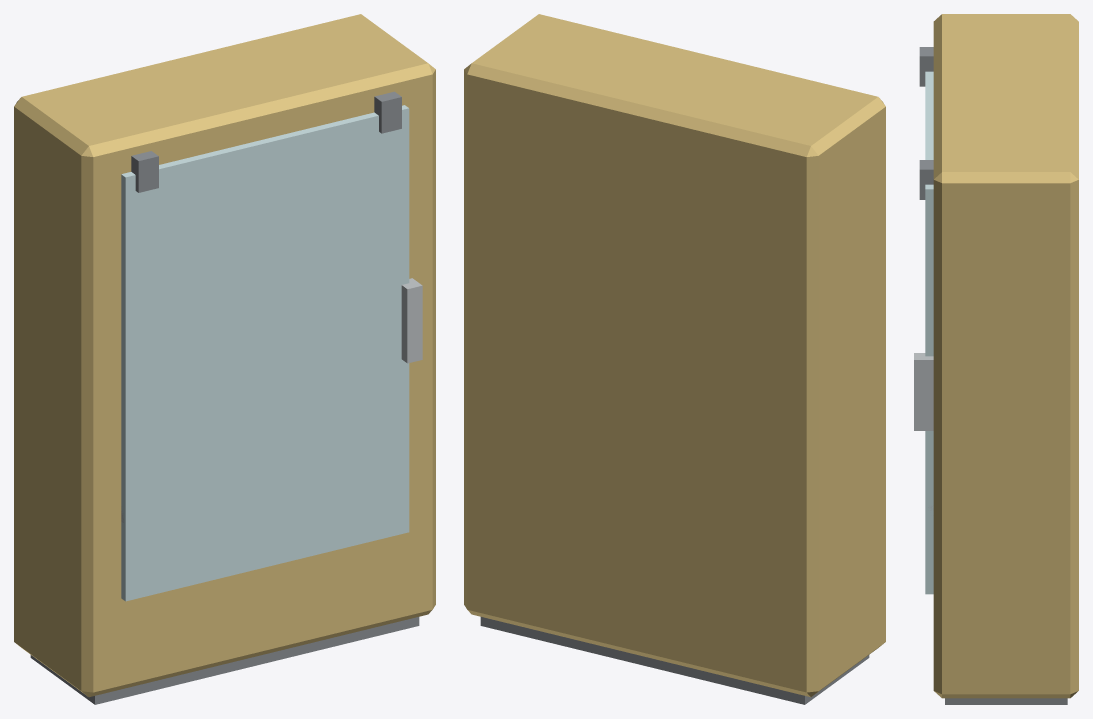
File: P_fire_cabinet.fbx
3 views of the same model, side by side, from view 1: azimuth 30°, elevation 25°; view 2: azimuth 150°, elevation 25°; view 3: azimuth 270°, elevation 25° (orthographic). The views are drawn at different scales.
Parts seen in each view (by area): view 1: P_fire_cabinet; view 2: P_fire_cabinet; view 3: P_fire_cabinet.
Part boxes in pixels (left/top/right/bottom): P_fire_cabinet: left=14, top=14, right=435, bottom=704; P_fire_cabinet: left=464, top=14, right=885, bottom=704; P_fire_cabinet: left=914, top=14, right=1078, bottom=704.
Bounding box in the file's own units: 0.7 × 1.06 × 0.295.
